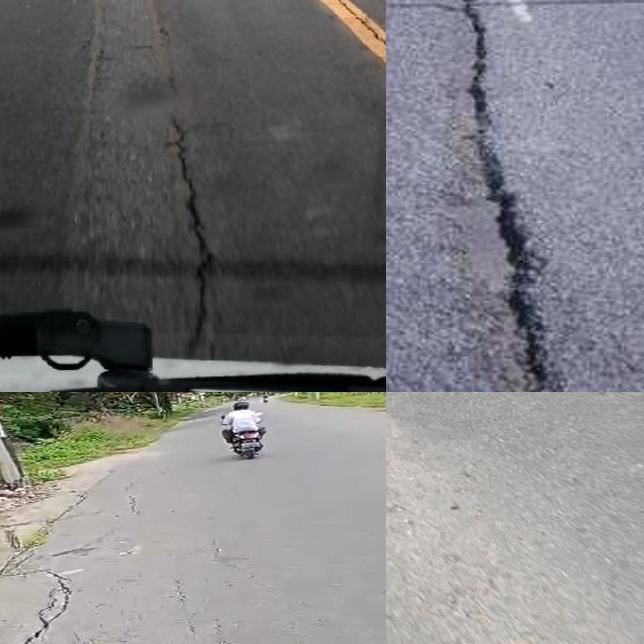Memanjang: (433, 0, 570, 392), (142, 0, 224, 352), (0, 562, 89, 644)
